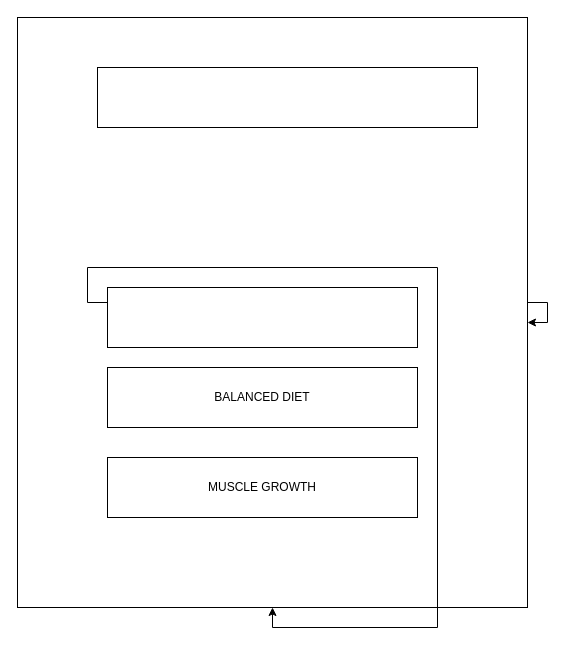
Image size: 573x653. Some labels were removed from this diagram. Each missing label, with the centre of its shape:
FAT LOSS: [262,317]
What are your Goals?: [287,97]
